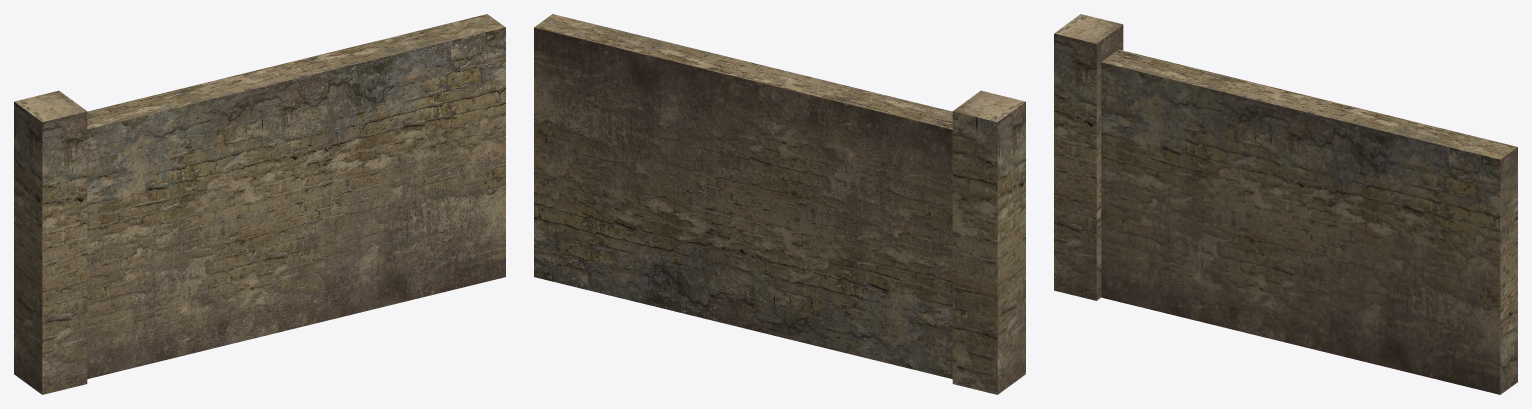
The model's file is New_brick_wall_W_collider.fbx.
The picture shows the model from 3 angles, left to right: view 1: azimuth 30°, elevation 25°; view 2: azimuth 150°, elevation 25°; view 3: azimuth 330°, elevation 25°; orthographic projection. The views are drawn at different scales.
Parts seen in each view (by area): view 1: wall; view 2: wall; view 3: wall.
Boxes of the visible parts, <box> form: wall: <box>14,14,505,394</box>; wall: <box>534,14,1025,394</box>; wall: <box>1054,14,1517,394</box>.
Size of what is drawn, in the model's own units: 454 by 252 by 47.47.
Materials: 1 (1 with a texture image).
